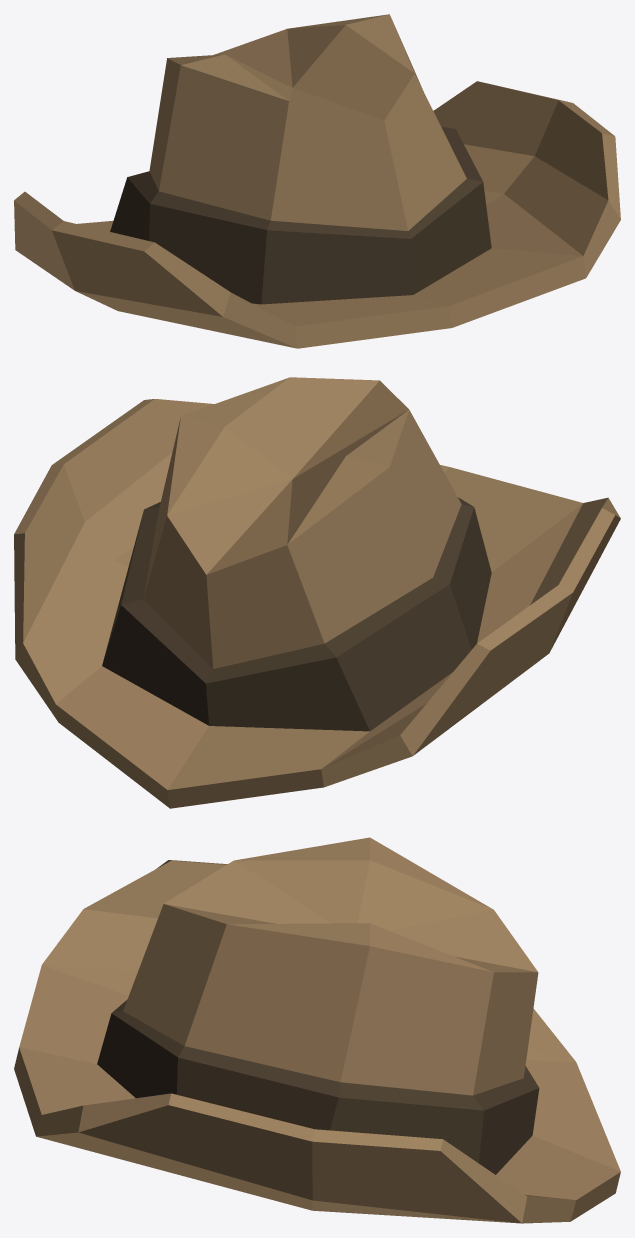
The model's file is SM_Chr_Attach_CowboyHat_01.fbx.
3 renders of one model, top to bottom at view 1: azimuth 30°, elevation 25°; view 2: azimuth 150°, elevation 25°; view 3: azimuth 270°, elevation 25°, orthographic. The views are drawn at different scales.
Visible parts, largest first — view 1: SM_Chr_Attach_CowboyHat_01; view 2: SM_Chr_Attach_CowboyHat_01; view 3: SM_Chr_Attach_CowboyHat_01.
Part boxes in pixels (left/top/right/bottom): SM_Chr_Attach_CowboyHat_01: left=14, top=14, right=620, bottom=348; SM_Chr_Attach_CowboyHat_01: left=14, top=377, right=620, bottom=808; SM_Chr_Attach_CowboyHat_01: left=14, top=837, right=620, bottom=1223.
Size of the model in its own units: 50.85 by 26.36 by 48.07.
